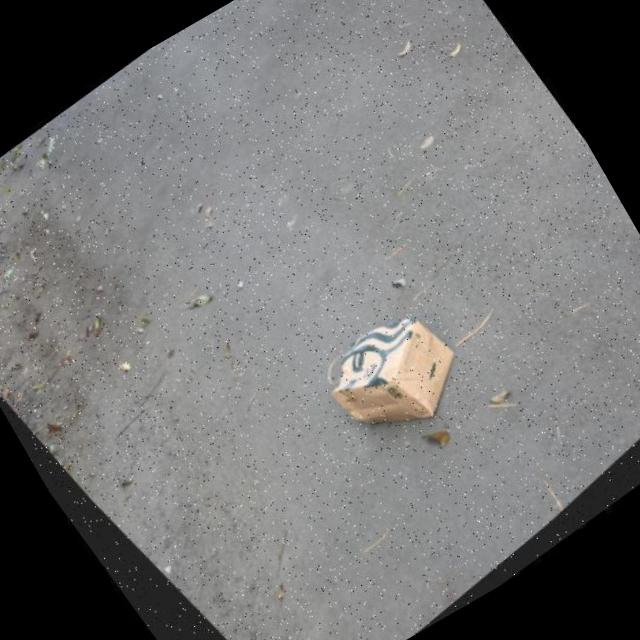KertasBekas: (312, 298, 478, 456)
